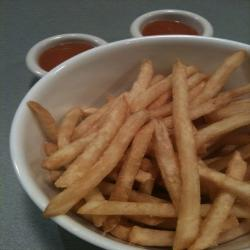fires: (37, 56, 250, 245)
